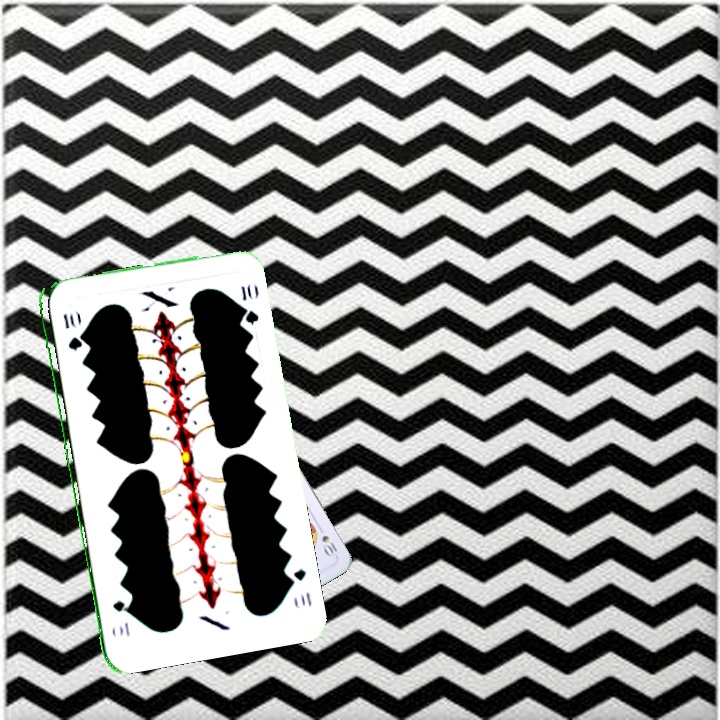G10: (283, 565, 315, 609), (59, 310, 81, 353)
S10: (318, 531, 340, 560)
